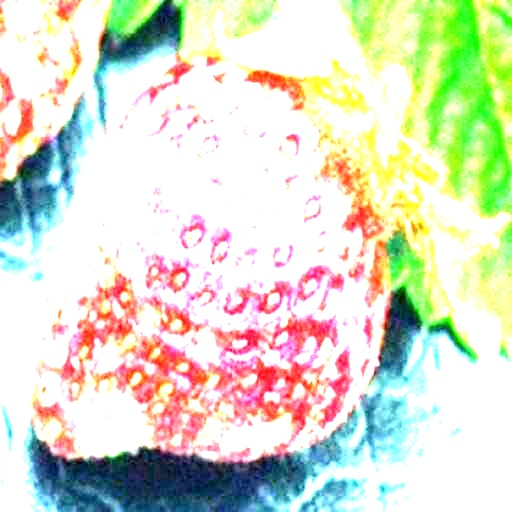Powdery Mildew Fruit: (24, 31, 412, 461)
